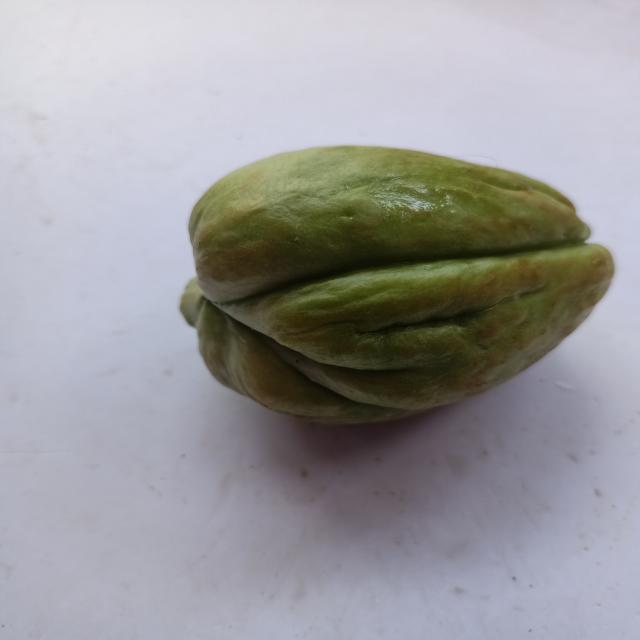Chayote: (137, 133, 626, 455)
